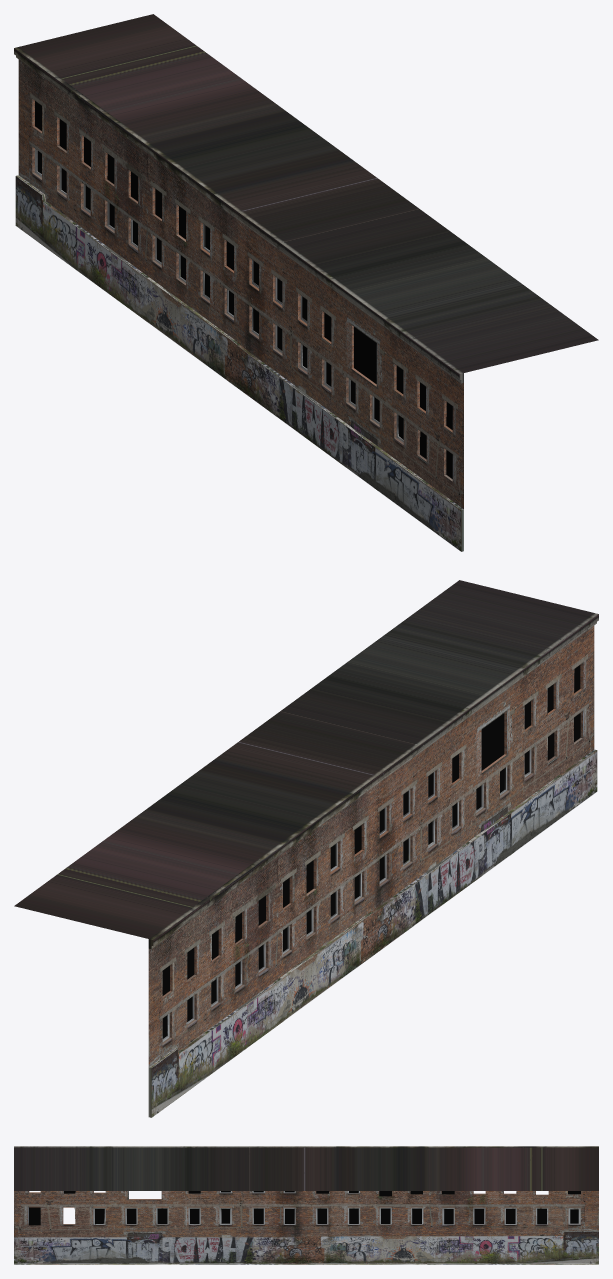
The model's file is EdificioLargo.fbx.
3 renders of one model, top to bottom at view 1: azimuth 30°, elevation 25°; view 2: azimuth 150°, elevation 25°; view 3: azimuth 270°, elevation 25°, orthographic. The views are drawn at different scales.
Visible parts, largest first — view 1: Plane.006; view 2: Plane.006; view 3: Plane.006.
Boxes of the visible parts, x1,y1,x2,y2 form: Plane.006: [14, 14, 598, 551]; Plane.006: [14, 580, 598, 1117]; Plane.006: [14, 1146, 598, 1264].
Bounding box in the file's own units: 27.99 × 34.15 × 155.
2 materials, 1 textured.
